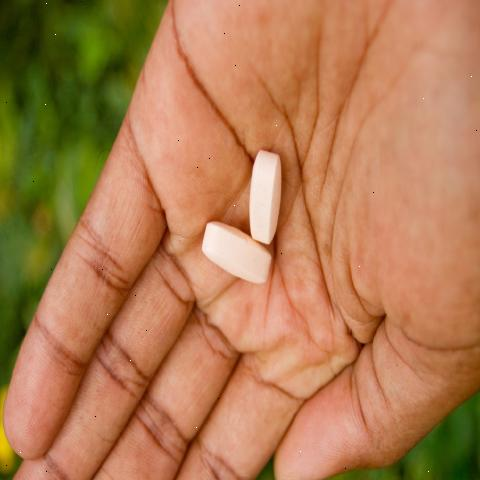Pill: (193, 217, 273, 320), (243, 138, 283, 249)
